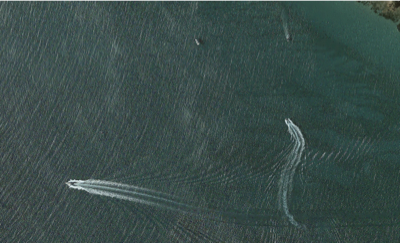boat: (65, 181, 76, 185), (195, 38, 200, 45), (286, 117, 289, 121), (287, 37, 289, 42)
